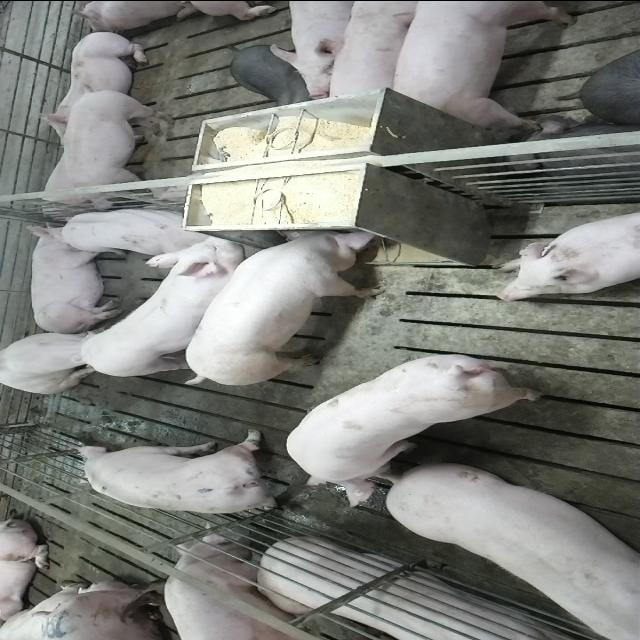Feeding: (178, 219, 396, 383)
Lateral_lying: (252, 539, 612, 640), (24, 224, 126, 334)
Sitting: (1, 326, 113, 393)
Standing: (383, 466, 640, 640), (288, 355, 546, 511), (384, 1, 586, 133), (77, 247, 255, 381), (71, 430, 292, 515), (166, 534, 322, 640), (64, 86, 182, 213), (324, 2, 435, 104), (273, 0, 363, 99)
Sternal_lying: (492, 207, 640, 301), (31, 30, 155, 132)
